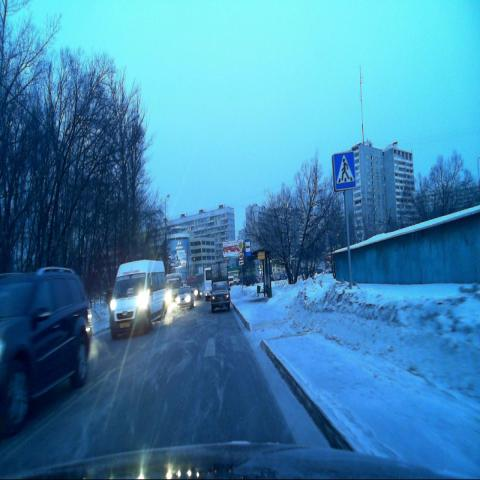2_1: (238, 240, 244, 251)
5_16: (244, 238, 252, 256)
5_19_1: (332, 151, 356, 192)
